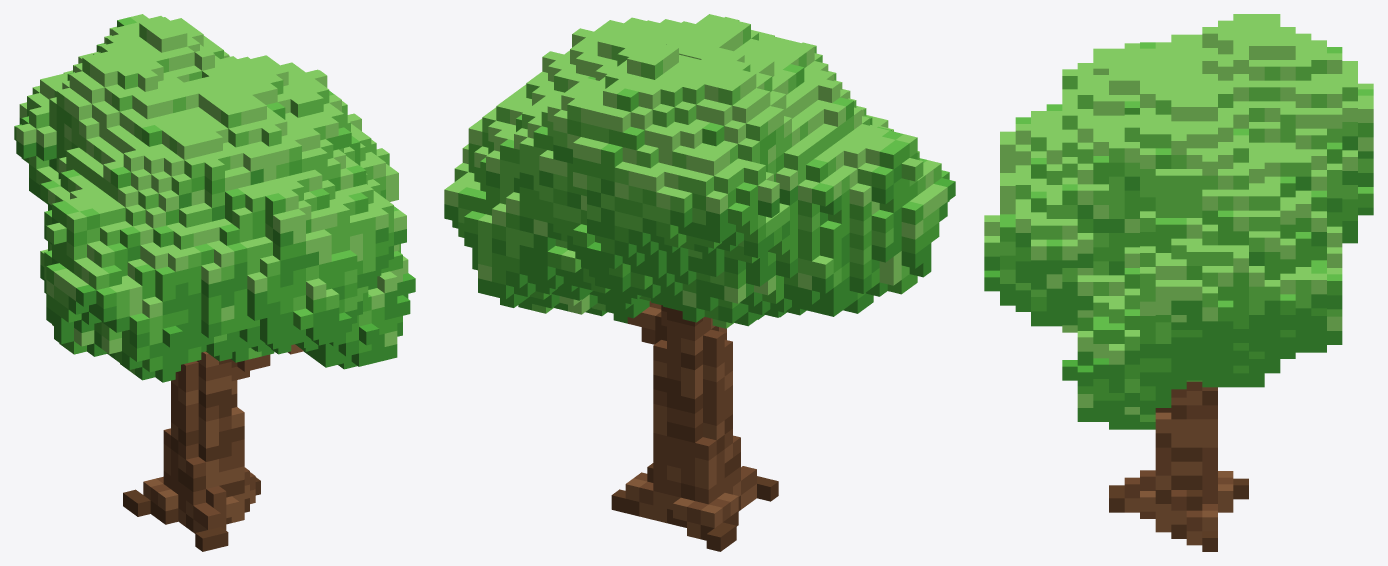
File: voxelbaum_wiese_rund.fbx
The picture shows the model from 3 angles, left to right: view 1: azimuth 30°, elevation 25°; view 2: azimuth 150°, elevation 25°; view 3: azimuth 270°, elevation 25°; orthographic projection. The views are drawn at different scales.
Visible parts, largest first — view 1: VoxelBaum_wiese_rund; view 2: VoxelBaum_wiese_rund; view 3: VoxelBaum_wiese_rund.
Boxes of the visible parts, x1=… form: VoxelBaum_wiese_rund: x1=14, y1=14, x2=415, y2=551; VoxelBaum_wiese_rund: x1=444, y1=14, x2=955, y2=551; VoxelBaum_wiese_rund: x1=984, y1=14, x2=1373, y2=551.
Bounding box in the file's own units: 14.5 × 17 × 12.5.
Materials: 1 (1 with a texture image).
